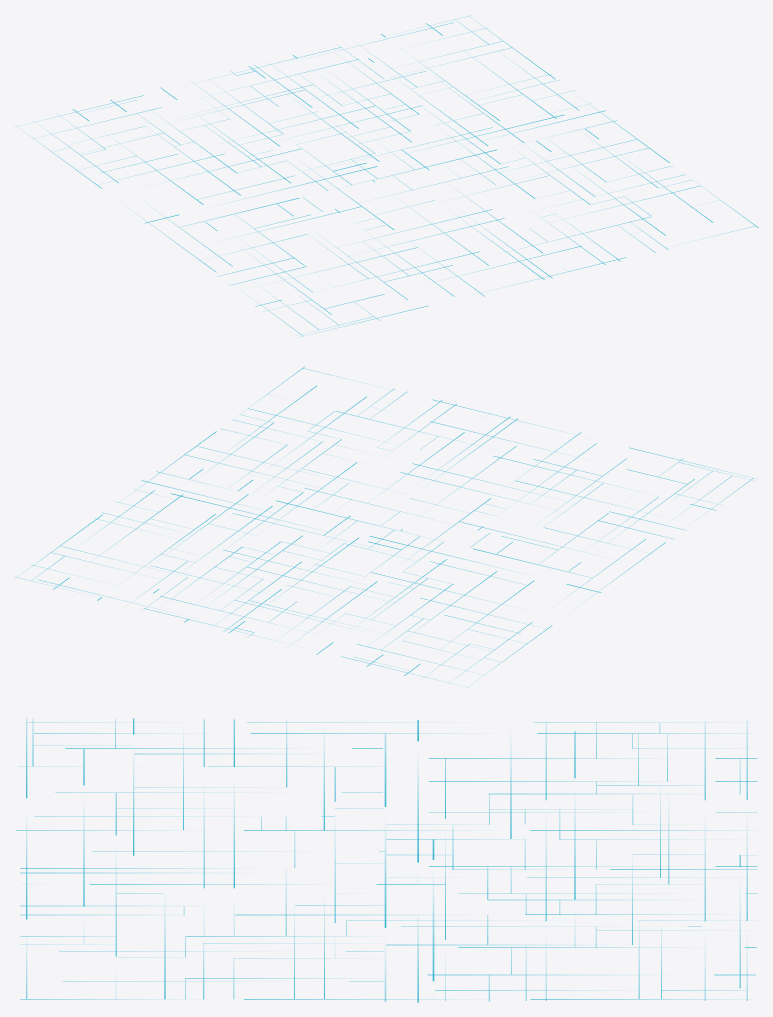
The picture shows the model from 3 angles, top to bottom: view 1: azimuth 30°, elevation 25°; view 2: azimuth 150°, elevation 25°; view 3: azimuth 270°, elevation 25°; orthographic projection. The views are drawn at different scales.
Parts seen in each view (by area): view 1: polySurface136; view 2: polySurface136; view 3: polySurface136.
Boxes of the visible parts, bbox=[...] form: polySurface136: bbox=[16, 15, 758, 336]; polySurface136: bbox=[15, 366, 754, 687]; polySurface136: bbox=[16, 718, 757, 1002].
Size of the model in its own units: 20028 by 12.34 by 22175.
Materials: 1 (1 with a texture image).
